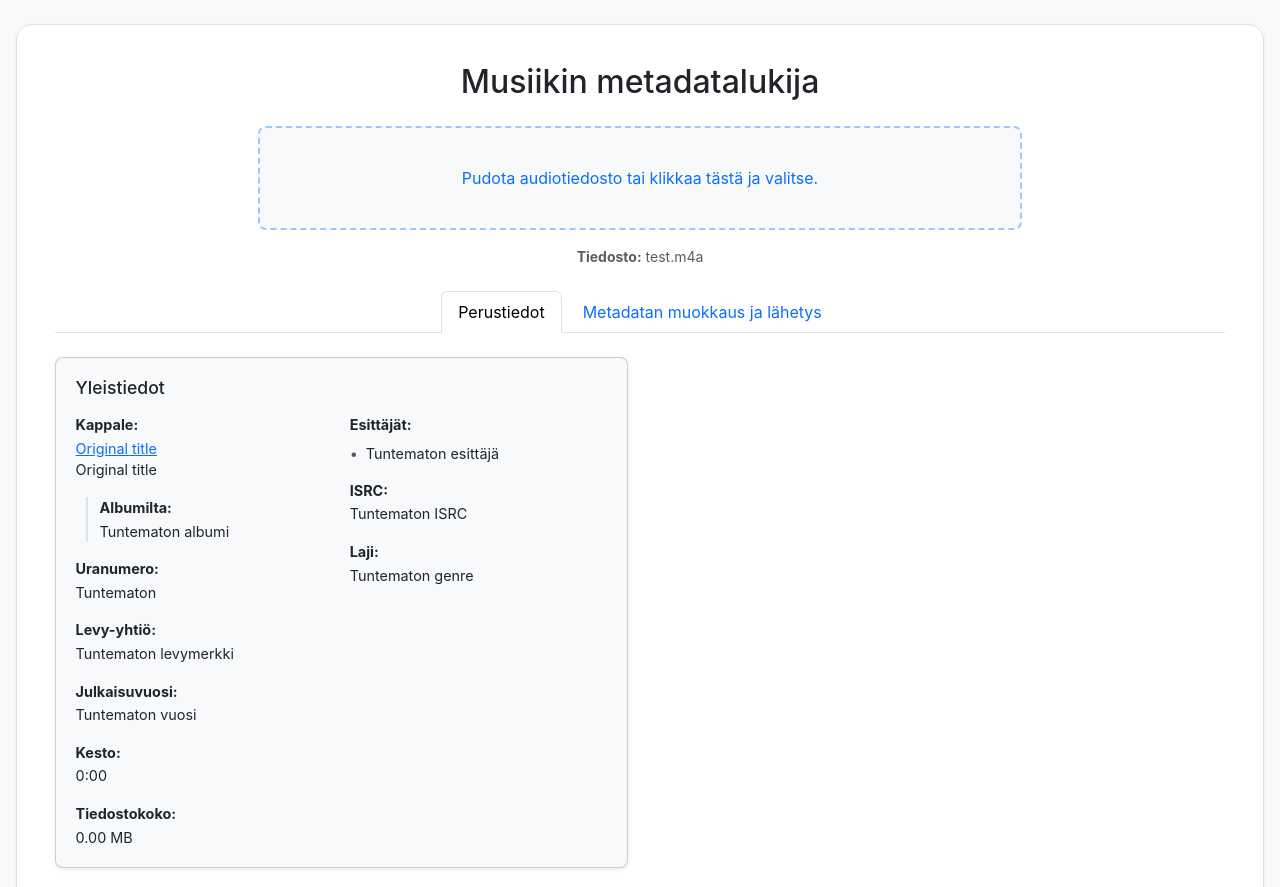
Test: sends the edited metadata to the backend and reports success
The width and height of the screenshot is (1280, 887).
Earlier steps of the test are not shown.
Click the tab "Metadatan muokkaus ja lähetys": click(702, 312) [566,291,839,333]
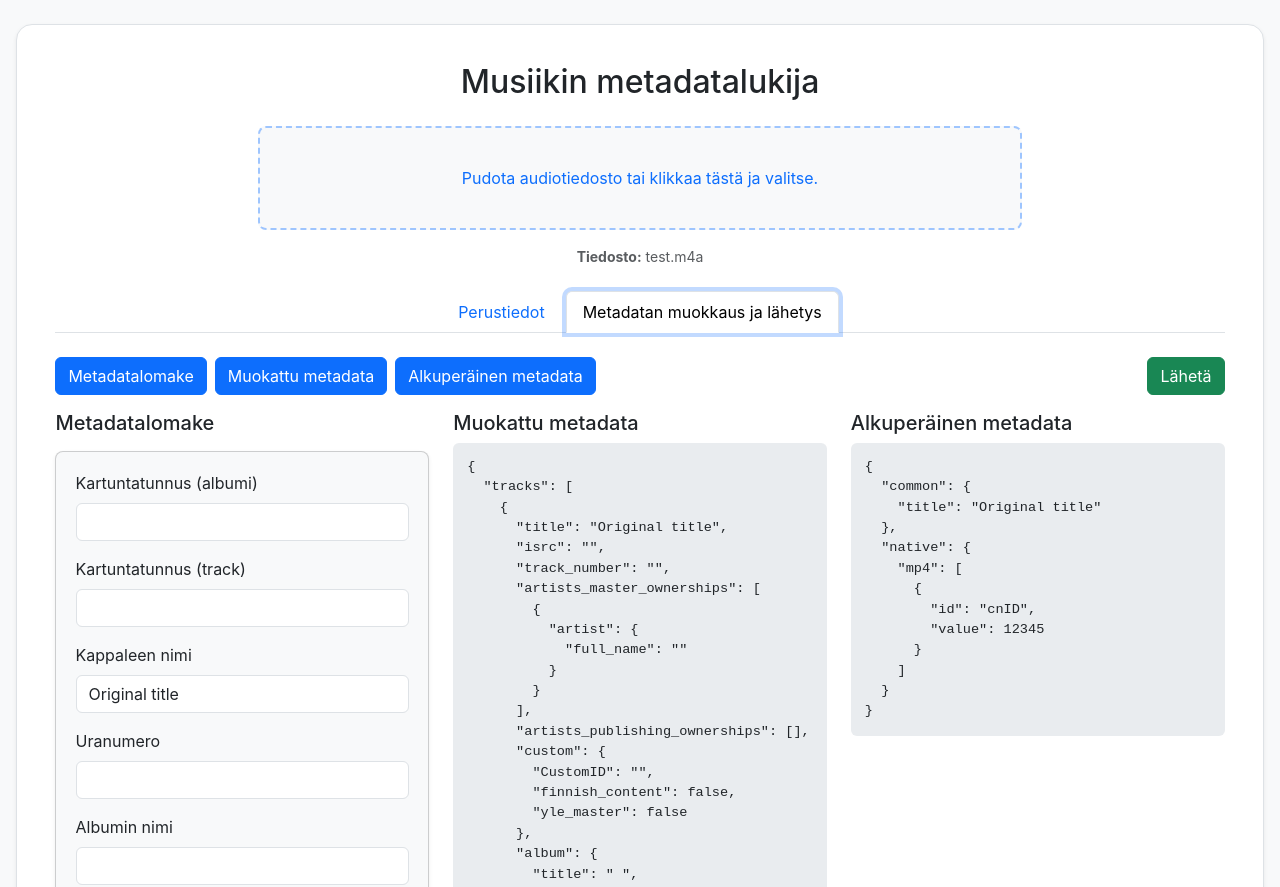
Replace the text in the field labelled "Kappaleen nimi" with "Edited title": (242, 694) [76,675,409,713]
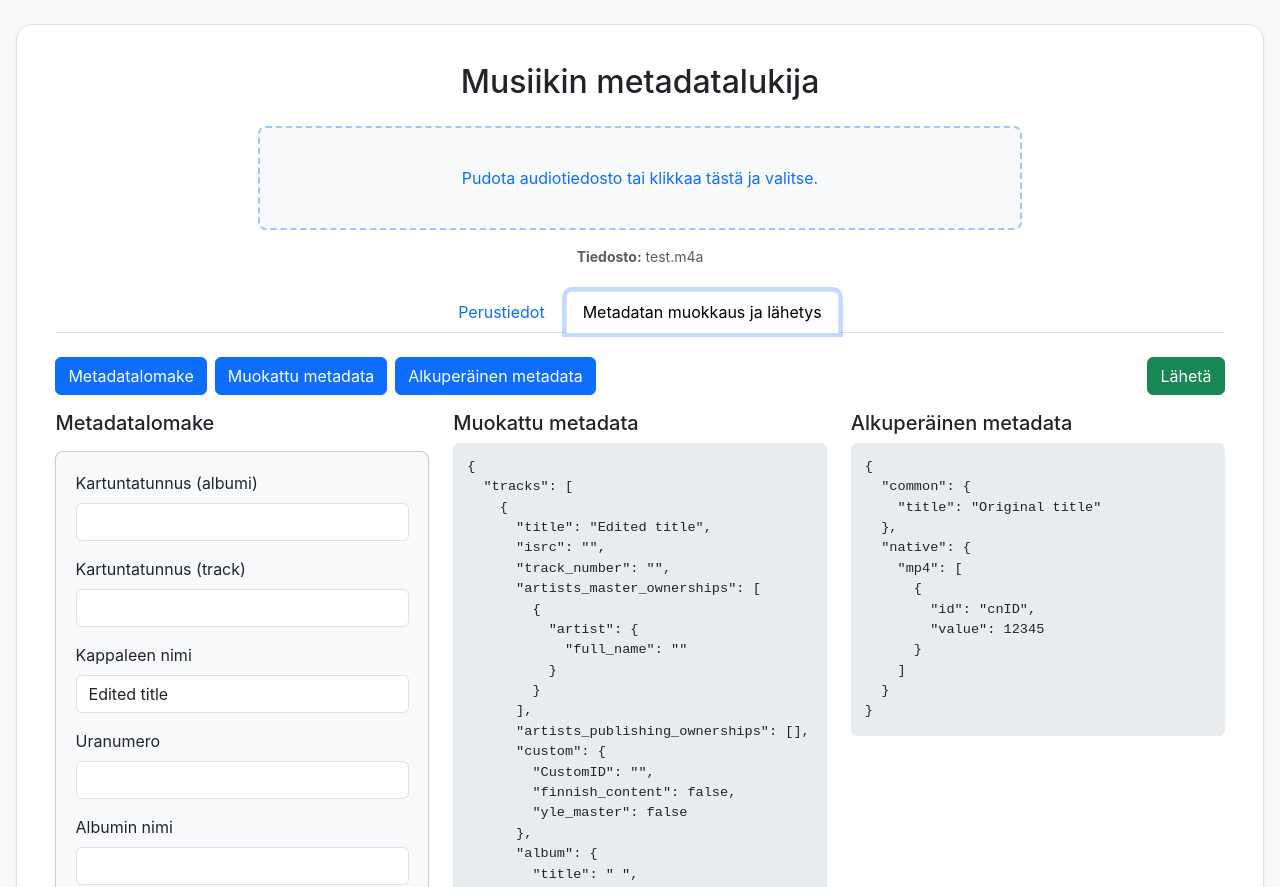
Click the button "Lähetä": click(1186, 376) [1148,357,1225,395]
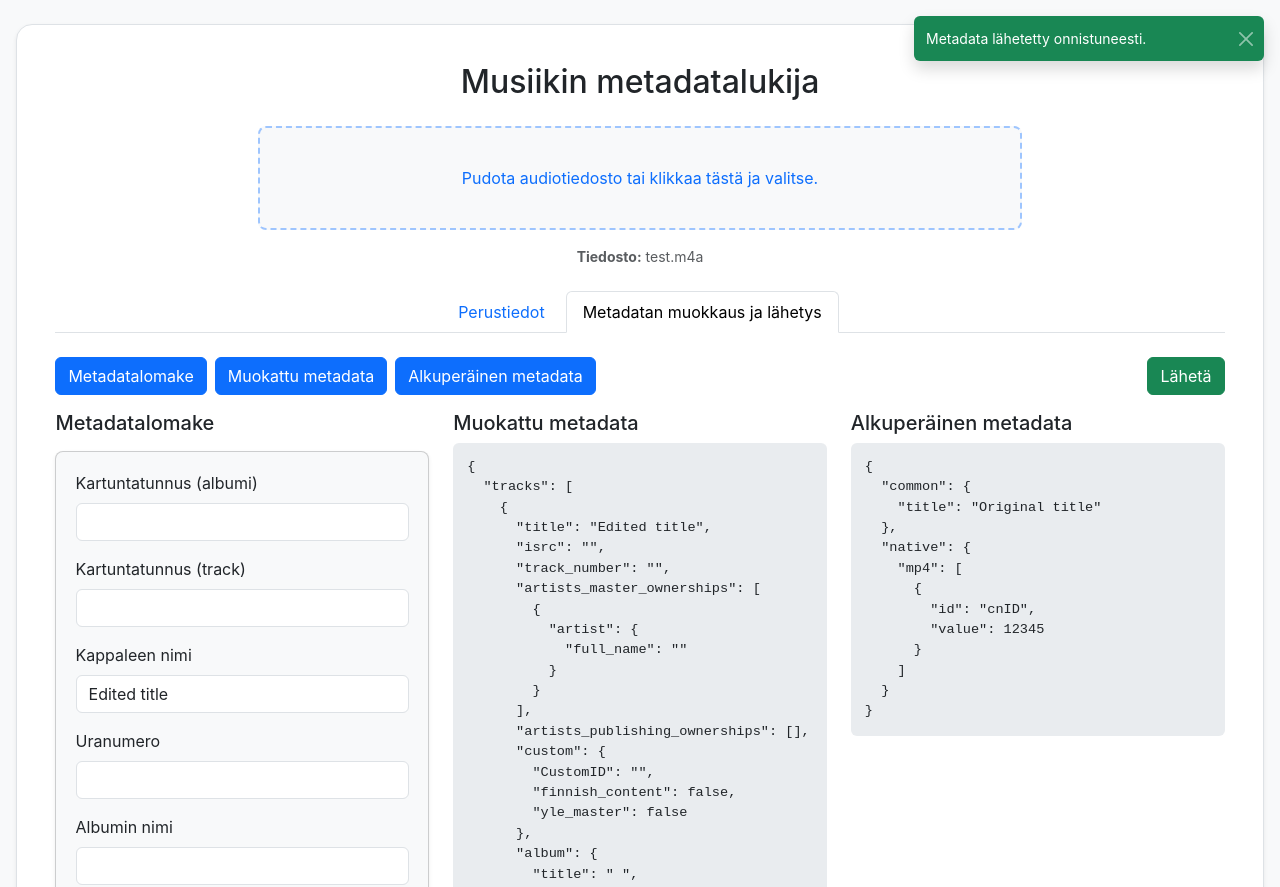
Now the message reads "Metadata lähetetty onnistuneesti.", box [926,30,1146,47]
